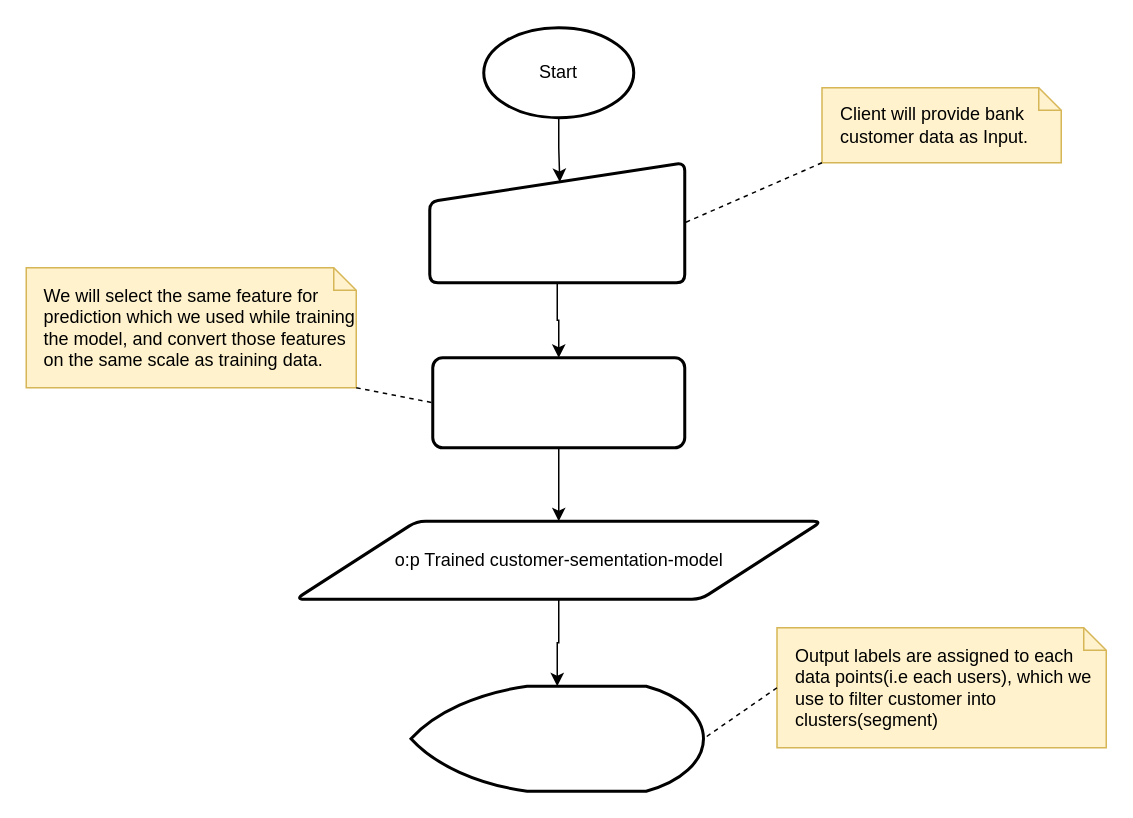
The diagram is 1133 pixels wide and 818 high, and some of its shapes have lost their labels. Each missing label, with the box of its shape:
i/p: Bank customers data: (428, 160, 686, 284)
O/p: Prediction (Customer segmentation into k categories): (409, 684, 704, 792)
Process input data: (430, 356, 686, 448)
